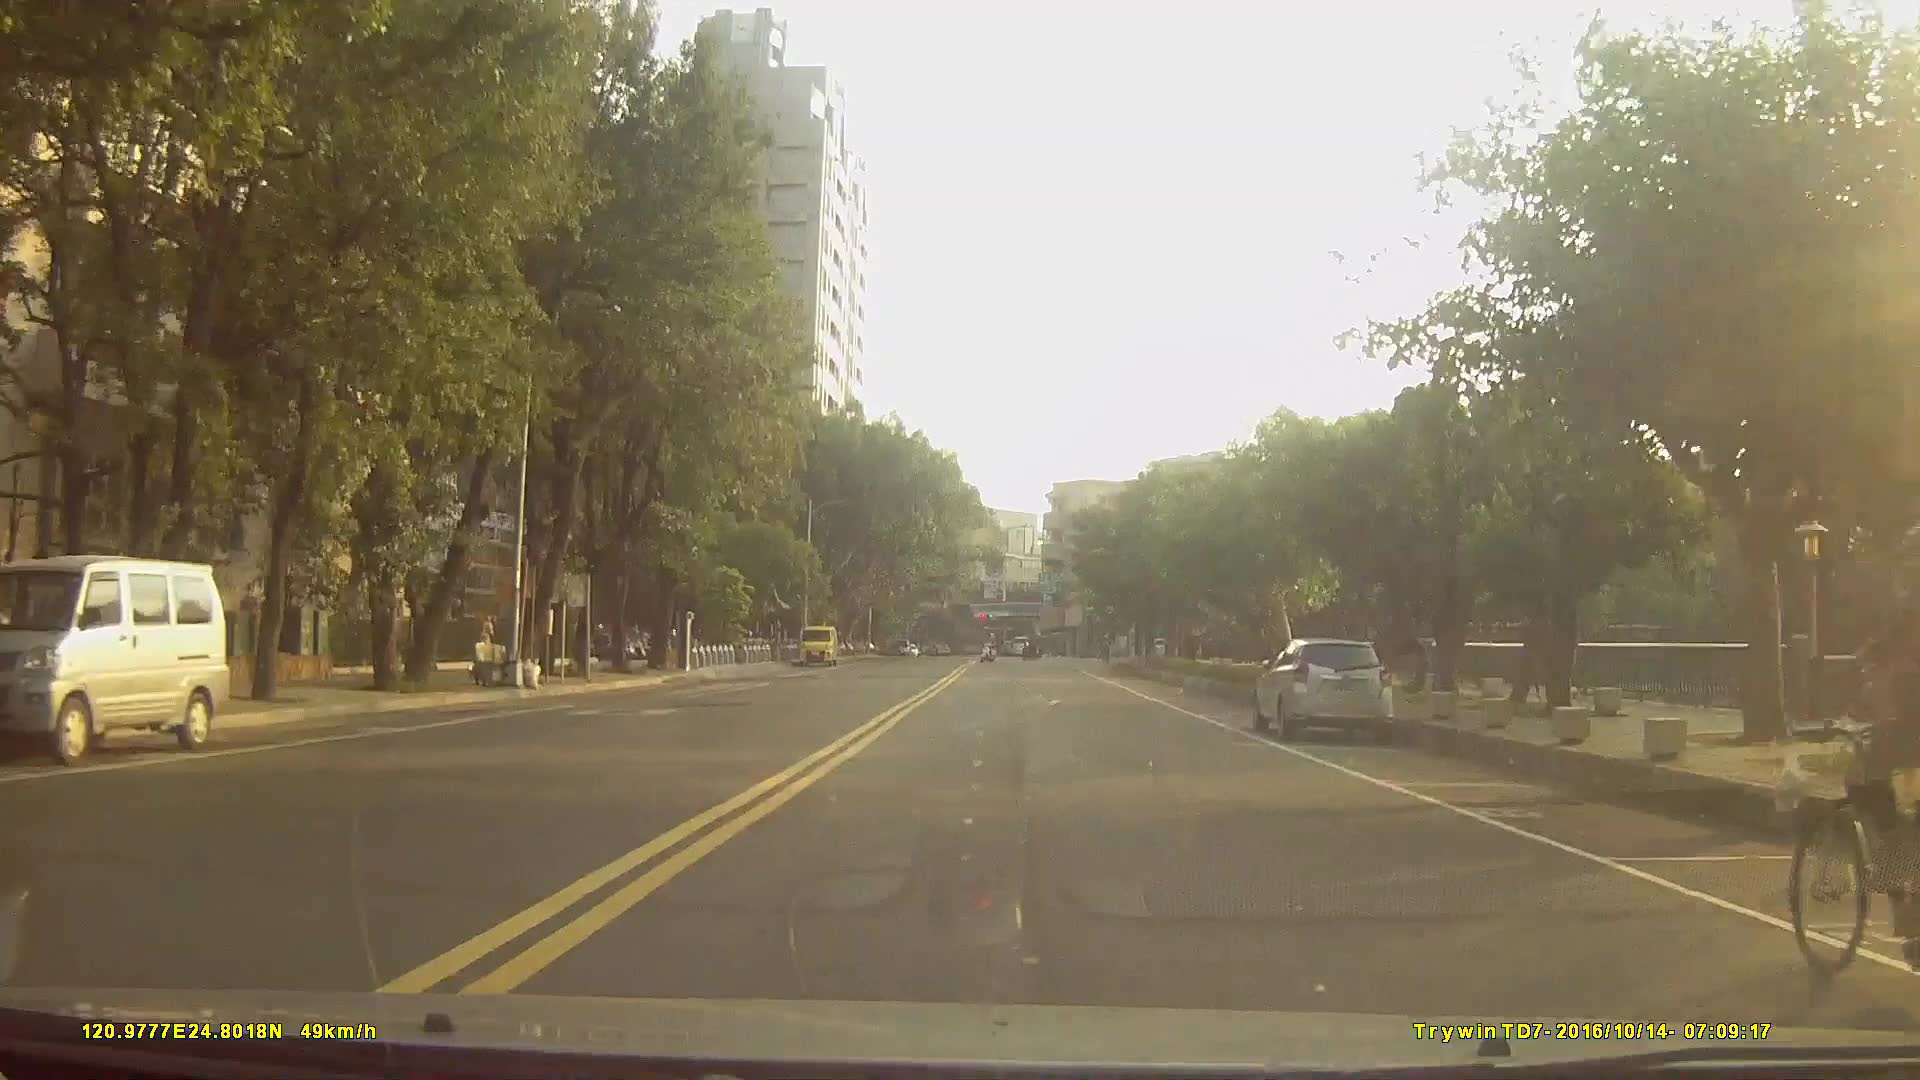rider: (1789, 523, 1920, 1001)
vehicle: (0, 550, 231, 763), (1250, 633, 1397, 739), (1007, 634, 1034, 659)
